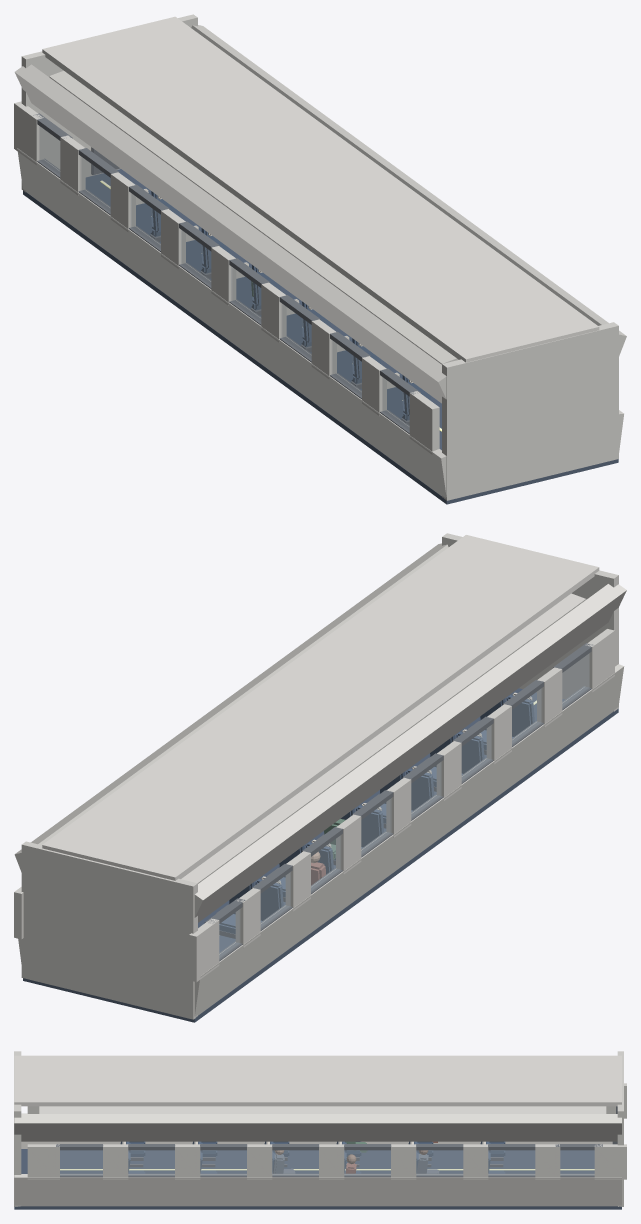
The model's file is flight404_cabin.glb.
3 views of the same model, one above another, from view 1: azimuth 30°, elevation 25°; view 2: azimuth 150°, elevation 25°; view 3: azimuth 270°, elevation 25° (orthographic). The views are drawn at different scales.
Parts seen in each view (by area): view 1: CabinCeilingCore, BulkheadAft, UpperCove_L, Dado_L, OverheadBin_L, UpperCove_R, CabinFloor, BulkheadFwd, Pillar_L_0, Pillar_L_8, Pillar_L_7, Pillar_L_2 (+13 smaller); view 2: CabinCeilingCore, BulkheadFwd, UpperCove_L, Dado_L, OverheadBin_L, UpperCove_R, CabinFloor, BulkheadAft, Pillar_L_8, Pillar_L_0, Pillar_L_1, Pillar_L_5 (+15 smaller); view 3: CabinCeilingCore, Dado_R, UpperCove_R, CabinFloor, OverheadBin_R, Dado_L, WinGlass_R_1, WinGlass_R_2, WinGlass_R_3, WinGlass_R_4, WinGlass_R_5, WinGlass_R_6 (+22 smaller).
Boxes of the visible parts, x1=… form: CabinCeilingCore: x1=42, y1=16, x2=599, y2=362; BulkheadAft: x1=442, y1=322, x2=618, y2=500; UpperCove_L: x1=14, y1=64, x2=446, y2=403; Dado_L: x1=17, y1=148, x2=446, y2=498; OverheadBin_L: x1=49, y1=70, x2=458, y2=364; UpperCove_R: x1=191, y1=25, x2=626, y2=356; CabinFloor: x1=23, y1=169, x2=618, y2=504; BulkheadFwd: x1=21, y1=14, x2=197, y2=192; Pillar_L_0: x1=409, y1=391, x2=439, y2=454; Pillar_L_8: x1=14, y1=101, x2=44, y2=164; Pillar_L_7: x1=60, y1=135, x2=85, y2=195; Pillar_L_2: x1=311, y1=319, x2=336, y2=378; CabinCeilingCore: x1=42, y1=535, x2=599, y2=880; BulkheadFwd: x1=21, y1=841, x2=197, y2=1019; UpperCove_L: x1=194, y1=584, x2=626, y2=922; Dado_L: x1=194, y1=664, x2=624, y2=1016; OverheadBin_L: x1=181, y1=593, x2=585, y2=883; UpperCove_R: x1=14, y1=543, x2=448, y2=872; CabinFloor: x1=23, y1=688, x2=618, y2=1022; BulkheadAft: x1=442, y1=533, x2=618, y2=711; Pillar_L_8: x1=189, y1=918, x2=219, y2=982; Pillar_L_0: x1=584, y1=629, x2=614, y2=692; Pillar_L_1: x1=537, y1=667, x2=562, y2=727; Pillar_L_5: x1=336, y1=814, x2=361, y2=874; CabinCeilingCore: x1=14, y1=1055, x2=621, y2=1106; Dado_R: x1=14, y1=1174, x2=621, y2=1206; UpperCove_R: x1=14, y1=1114, x2=621, y2=1141; CabinFloor: x1=14, y1=1149, x2=621, y2=1209; OverheadBin_R: x1=39, y1=1106, x2=606, y2=1113; Dado_L: x1=21, y1=1113, x2=612, y2=1148; WinGlass_R_1: x1=128, y1=1150, x2=174, y2=1175; WinGlass_R_2: x1=200, y1=1150, x2=246, y2=1175; WinGlass_R_3: x1=272, y1=1150, x2=318, y2=1175; WinGlass_R_4: x1=344, y1=1150, x2=390, y2=1175; WinGlass_R_5: x1=416, y1=1150, x2=462, y2=1175; WinGlass_R_6: x1=488, y1=1150, x2=534, y2=1175.
Size of the model in its own units: 3.47 by 2.47 by 13.62.
